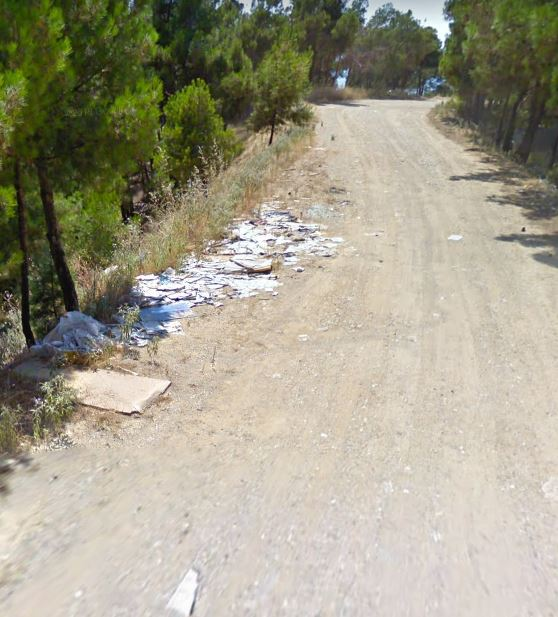trash: (62, 182, 346, 361), (9, 323, 178, 426), (443, 230, 464, 246)
